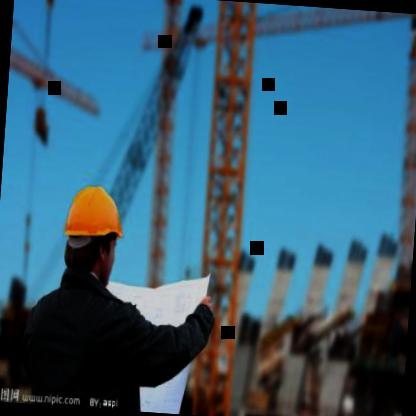helmet: (57, 172, 130, 292)
